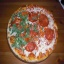basil: (12, 32, 24, 49)
pepperoni: (25, 40, 38, 53), (42, 26, 55, 39), (25, 9, 37, 23), (38, 13, 49, 27)
pizza: (7, 5, 58, 62)
